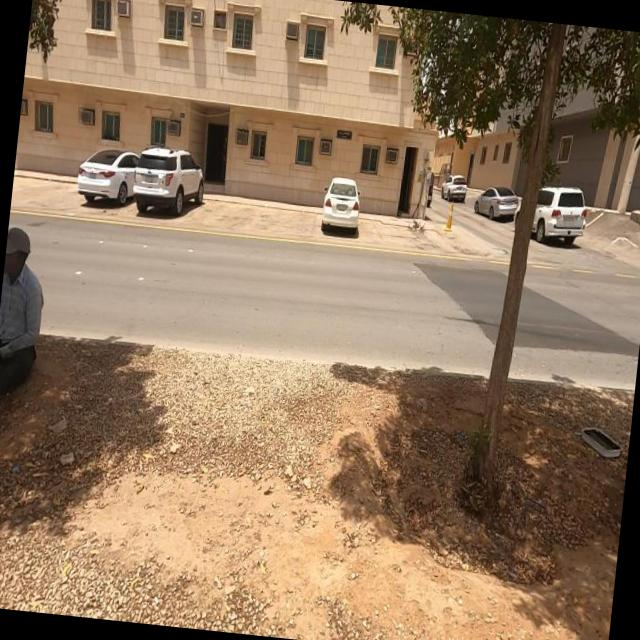debris: (532, 371, 636, 509)
